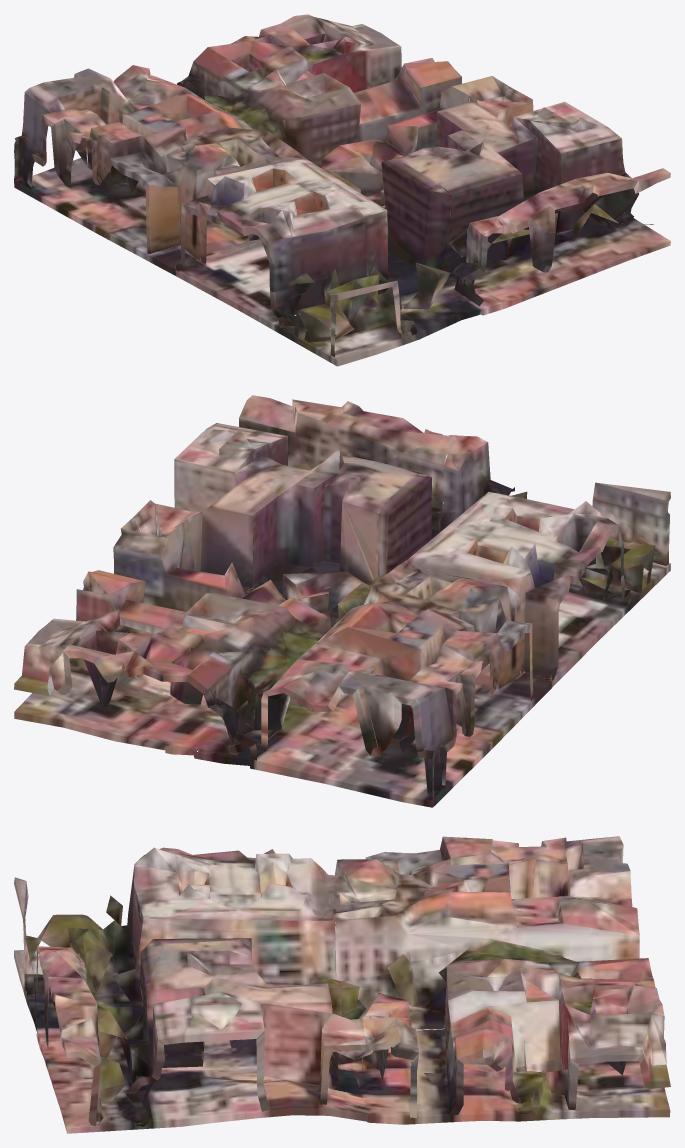
3 views of the same model, one above another, from view 1: azimuth 30°, elevation 25°; view 2: azimuth 150°, elevation 25°; view 3: azimuth 270°, elevation 25° (orthographic). The views are drawn at different scales.
Parts seen in each view (by area): view 1: Mesh_0; view 2: Mesh_0; view 3: Mesh_0.
Boxes of the visible parts, <box> form: Mesh_0: <box>14,14,670,366</box>; Mesh_0: <box>14,395,670,807</box>; Mesh_0: <box>14,836,670,1133</box>.
Bounding box in the file's own units: 133 × 36.96 × 165.
Materials: 1 (1 with a texture image).
